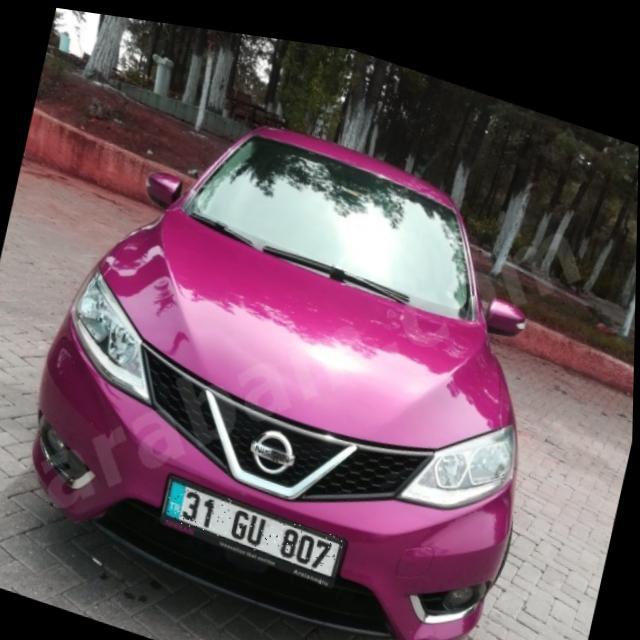license_plate: (163, 473, 348, 568)
